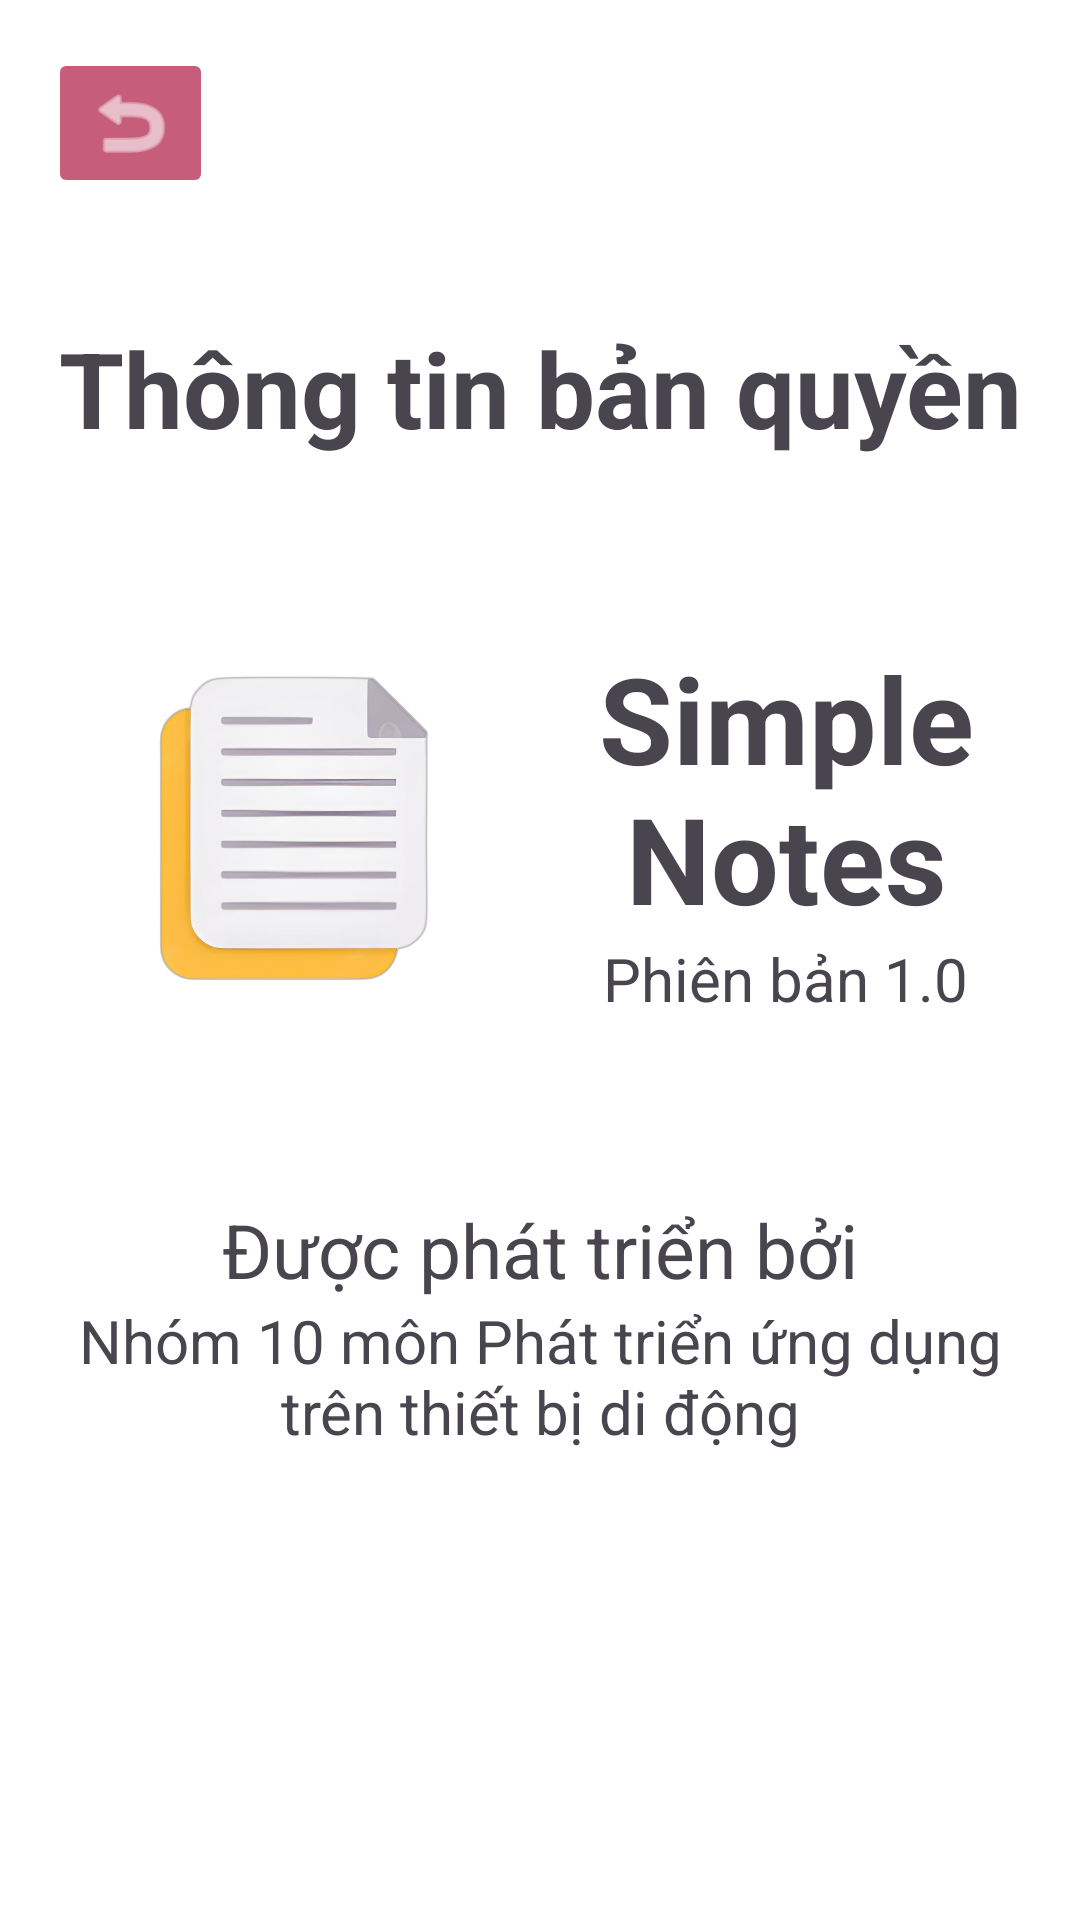

Locate icon controls on the screen. Image size 1080 x 1920, boxes as (x1, y1, x2, y2).
noteicon: (159, 676, 428, 980)
